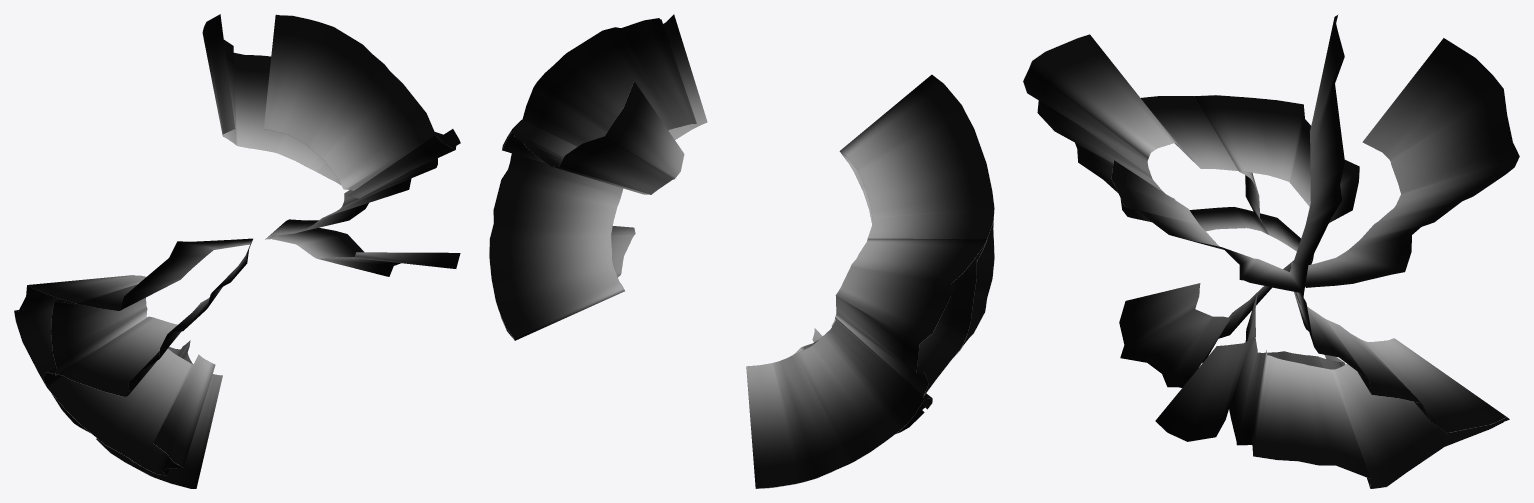
File: lieguang_A2.FBX
3 renders of one model, left to right at view 1: azimuth 30°, elevation 25°; view 2: azimuth 150°, elevation 25°; view 3: azimuth 270°, elevation 25°, orthographic. The views are drawn at different scales.
Visible parts, largest first — view 1: lieguang_A2; view 2: lieguang_A2; view 3: lieguang_A2.
Part boxes in pixels (<box>): lieguang_A2: <box>14,14,460,488</box>; lieguang_A2: <box>489,14,994,488</box>; lieguang_A2: <box>1023,14,1519,488</box>.
Bounding box in the file's own units: 205 × 190 × 163.
